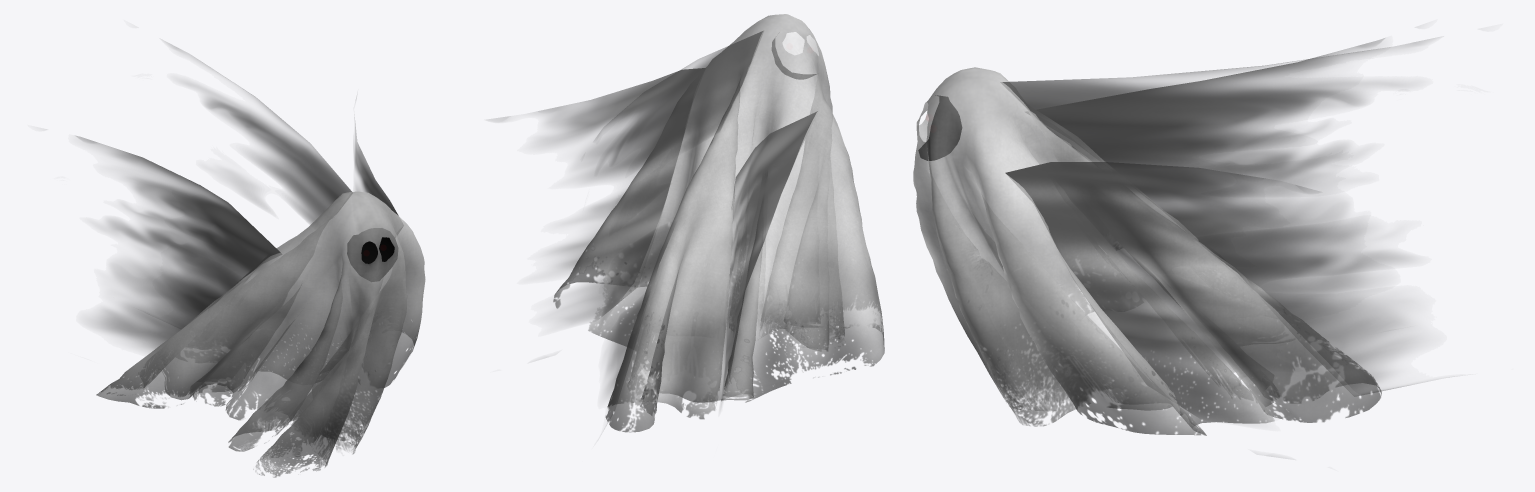
File: halloween.glb
The picture shows the model from 3 angles, left to right: view 1: azimuth 30°, elevation 25°; view 2: azimuth 150°, elevation 25°; view 3: azimuth 270°, elevation 25°; orthographic projection. The views are drawn at different scales.
Visible parts, largest first — view 1: Object_3, Object_5, Object_2; view 2: Object_3, Object_5; view 3: Object_3, Object_5, Object_2.
Part boxes in pixels (x1,y1,x2,y2): Object_3: (96,191,425,477); Object_5: (76,43,403,351); Object_2: (347,228,398,281); Object_3: (553,14,884,432); Object_5: (496,31,818,423); Object_3: (913,67,1381,435); Object_5: (1000,38,1429,420); Object_2: (918,95,961,160).
Bounding box in the file's own units: 0.7976 × 0.7069 × 1.01.
4 materials, 2 textured.
